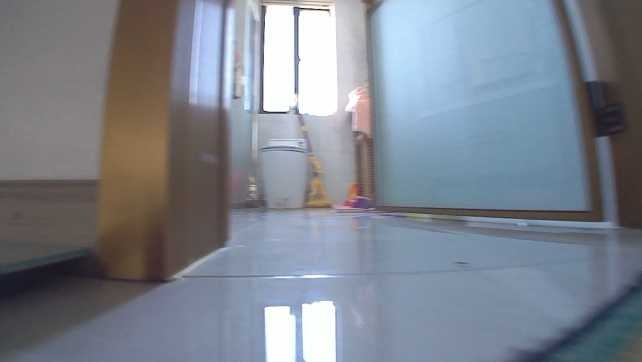toilet: (255, 136, 309, 210)
